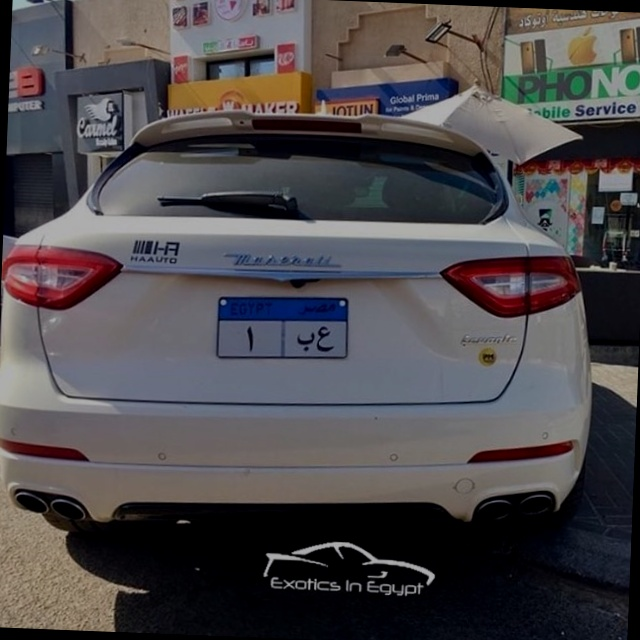License Plate: (211, 289, 352, 366)
